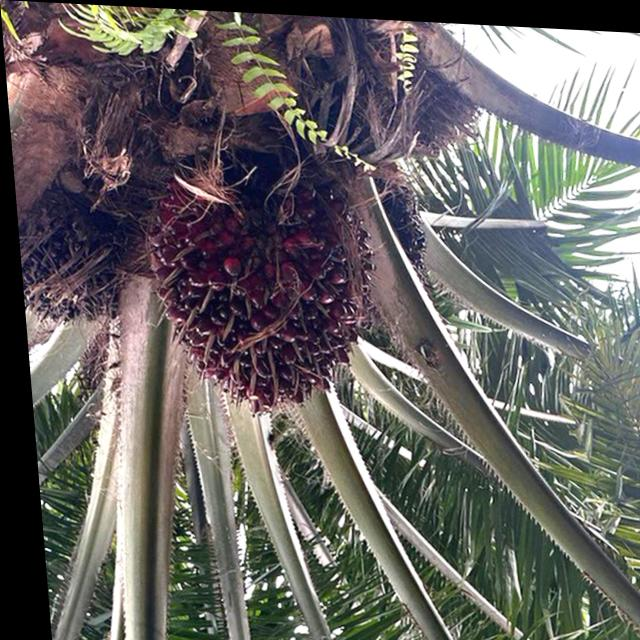ripe: (106, 134, 413, 440)
